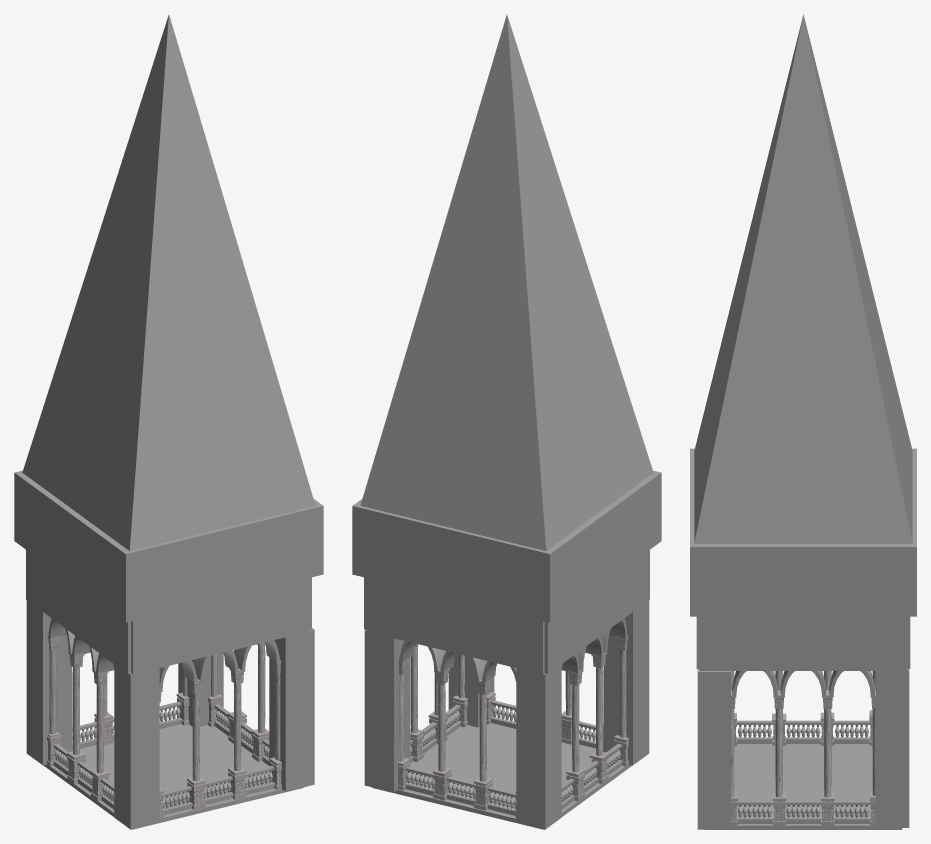
The model's file is CampanileHead.fbx.
3 renders of one model, left to right at view 1: azimuth 30°, elevation 25°; view 2: azimuth 150°, elevation 25°; view 3: azimuth 270°, elevation 25°, orthographic.
Parts seen in each view (by area): view 1: Pointy, Ceiling, Large_Col_2 (×2), Upper_Wall_3, Large_Col_1 (×2), Floor, Upper_Wall_1, pCylinder1 (×6), Lower_Beam; view 2: Pointy, Ceiling, Large_Col_1 (×2), Upper_Wall_2, Large_Col_2 (×2), Floor, Upper_Wall_1, pCylinder1 (×6), Lower_Beam; view 3: Pointy, Ceiling, Upper_Wall, Floor, Large_Col_2, Large_Col_1, Lower_Beam (×2), pCylinder1 (×2), Upper_Beam (×2).
Boxes of the visible parts, box(x1,y1,x2,y2) form: Pointy: box(22, 15, 315, 550); Ceiling: box(14, 470, 323, 622); Large_Col_2 (×2): box(26, 600, 314, 791); Upper_Wall_3: box(131, 578, 309, 674); Large_Col_1 (×2): box(114, 652, 223, 829); Floor: box(43, 724, 303, 829); Upper_Wall_1: box(26, 550, 131, 673); pCylinder1 (×6): box(49, 645, 265, 781); Lower_Beam: box(163, 782, 275, 814); Pointy: box(360, 15, 653, 550); Ceiling: box(352, 470, 661, 622); Large_Col_1 (×2): box(364, 600, 649, 792); Upper_Wall_2: box(366, 578, 544, 674); Large_Col_2 (×2): box(448, 653, 561, 829); Floor: box(372, 723, 632, 829); Upper_Wall_1: box(544, 550, 649, 673); pCylinder1 (×6): box(410, 645, 626, 781); Lower_Beam: box(404, 782, 516, 815); Pointy: box(694, 14, 912, 543); Ceiling: box(690, 448, 916, 616); Upper_Wall: box(699, 616, 907, 670); Floor: box(705, 744, 902, 829); Large_Col_2: box(697, 669, 730, 829); Large_Col_1: box(876, 669, 909, 827); Lower_Beam (×2): box(736, 737, 870, 823); pCylinder1 (×2): box(775, 708, 831, 797); Upper_Beam (×2): box(737, 720, 870, 804).
Size of the model in its own units: 478 by 1756 by 467.
5 materials, 4 textured.
